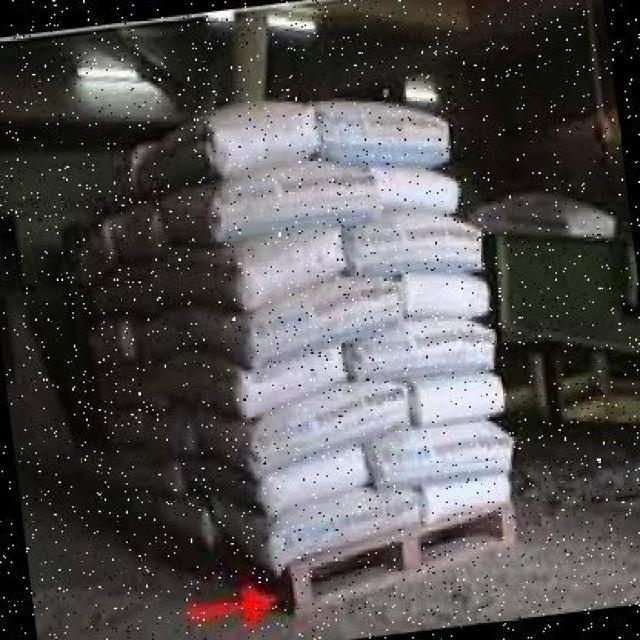gunny_bag: (250, 379, 413, 475), (200, 160, 384, 244), (263, 486, 426, 574), (245, 278, 409, 363), (368, 416, 514, 496), (342, 212, 484, 281), (236, 228, 342, 312), (256, 446, 371, 523), (202, 102, 320, 176), (239, 347, 349, 422), (350, 323, 495, 377), (318, 106, 447, 162), (403, 366, 506, 422), (418, 469, 516, 525), (362, 167, 458, 214), (404, 271, 489, 322)
